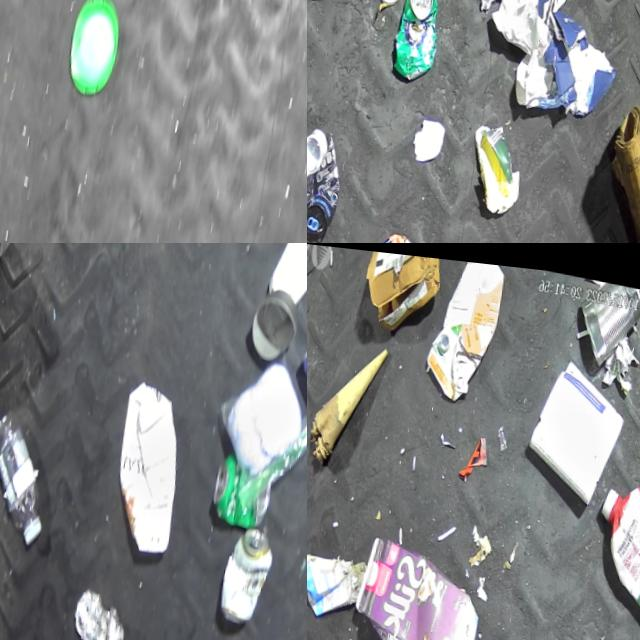can: (221, 515, 284, 624), (571, 268, 640, 363), (213, 440, 283, 529), (307, 116, 352, 241), (250, 277, 306, 360), (392, 0, 447, 75), (372, 220, 436, 243)
milk_jug: (111, 372, 198, 553), (268, 243, 307, 302)
non_white_jug: (350, 528, 491, 640), (423, 253, 509, 404), (588, 468, 640, 624)
plastic_bottle: (0, 402, 65, 547)
